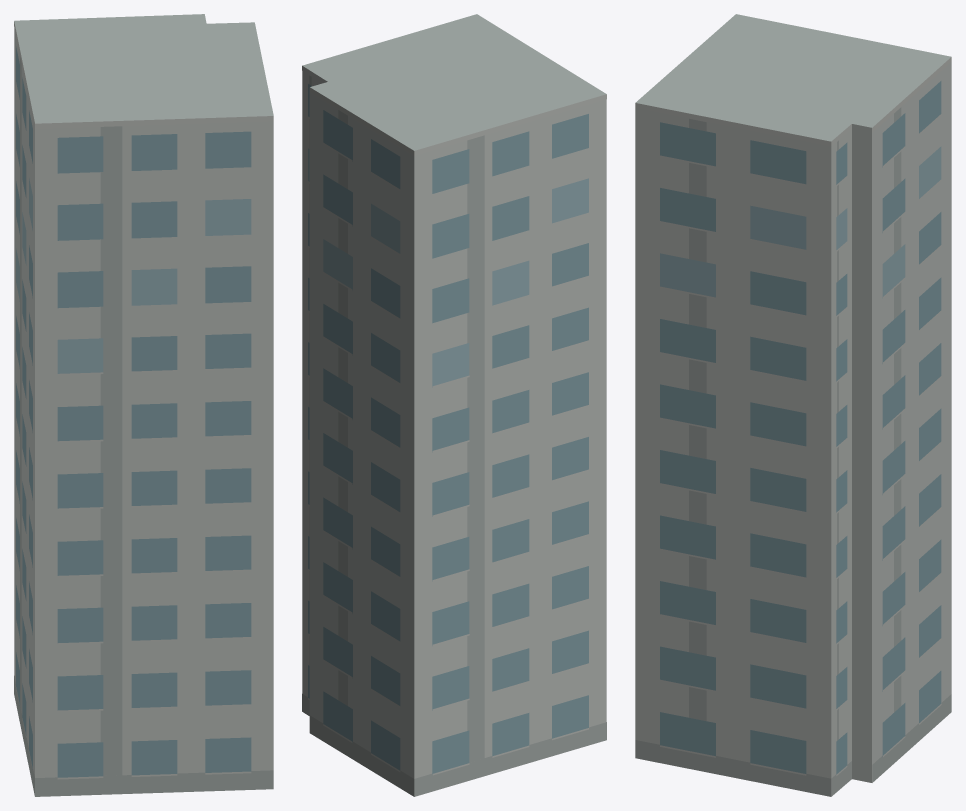
Rendered from survey-upis-32919604.glb.
The picture shows the model from 3 angles, left to right: view 1: azimuth 30°, elevation 25°; view 2: azimuth 150°, elevation 25°; view 3: azimuth 270°, elevation 25°; orthographic projection. The views are drawn at different scales.
Visible parts, largest first — view 1: survey-upis-32919604.tmp; view 2: survey-upis-32919604.tmp; view 3: survey-upis-32919604.tmp.
Boxes of the visible parts, x1,y1,x2,y2 form: survey-upis-32919604.tmp: (14, 14, 273, 796); survey-upis-32919604.tmp: (302, 14, 606, 796); survey-upis-32919604.tmp: (635, 14, 951, 796).
Size of the model in its own units: 12.75 by 30.5 by 13.36.
